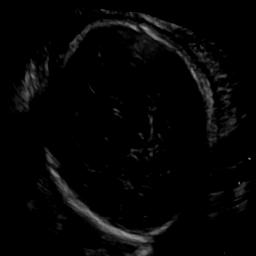normal: (14, 1, 234, 256)
